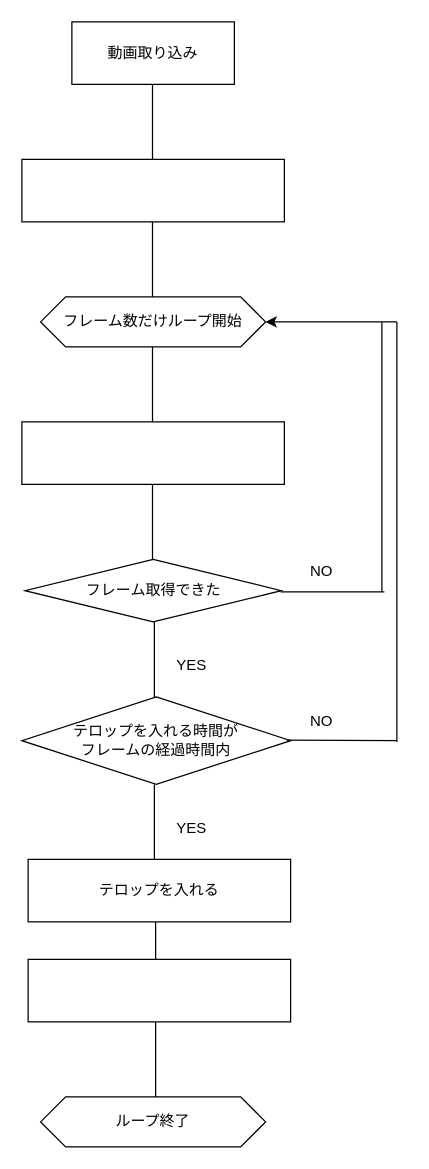
Image size: 429x1169. Some labels were removed from this diagram. Each missing label, with the centre of its shape:
"1フレーム取り出す" belongs at [152,452].
"フレーム数、FPS、横幅、縦幅取得" belongs at [152,190].
"１フレームずつ動画を保存する" belongs at [159,990].
